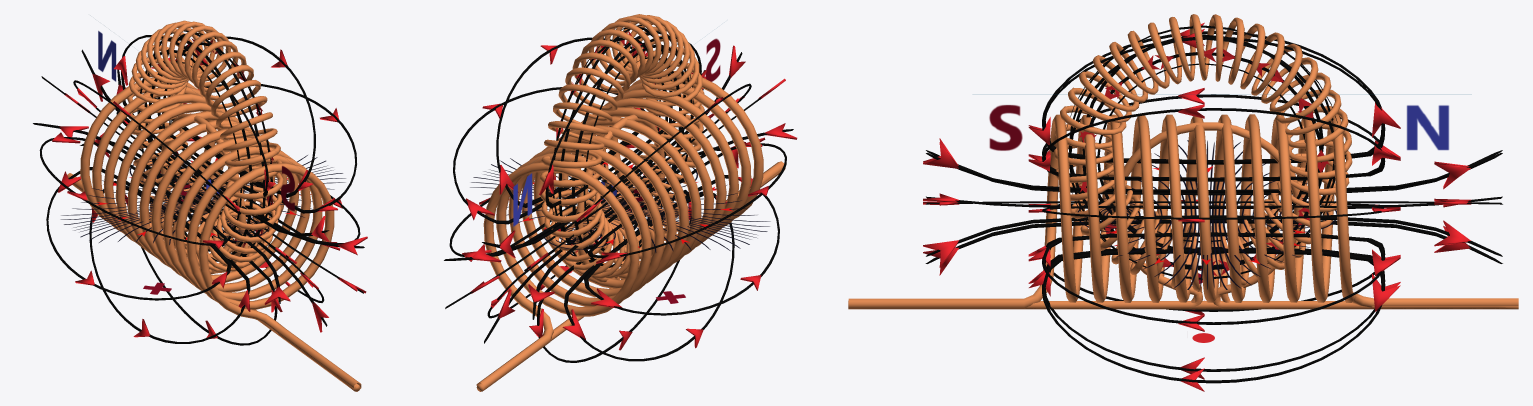
Rendered from conductors.glb.
3 views of the same model, side by side, from view 1: azimuth 30°, elevation 25°; view 2: azimuth 150°, elevation 25°; view 3: azimuth 270°, elevation 25° (orthographic). The views are drawn at different scales.
Parts seen in each view (by area): view 1: solenoid, toroid, MFsolenoid, MFcoil, MFtoroid, N-Storoid, coil, N-Ssolenoid; view 2: solenoid, toroid, MFsolenoid, MFcoil, MFtoroid, coil, N-Storoid, N-Ssolenoid; view 3: solenoid, MFsolenoid, toroid, coil, MFcoil, N-Storoid, MFtoroid, N-Ssolenoid, wire.
Boxes of the visible parts, left/top/right/bottom form: solenoid: left=67, top=77, right=361, bottom=389; toroid: left=127, top=20, right=356, bottom=385; MFsolenoid: left=33, top=35, right=367, bottom=345; MFcoil: left=60, top=155, right=345, bottom=244; MFtoroid: left=137, top=30, right=273, bottom=256; N-Storoid: left=137, top=33, right=273, bottom=261; coil: left=161, top=113, right=359, bottom=391; N-Ssolenoid: left=98, top=31, right=294, bottom=211; solenoid: left=476, top=71, right=784, bottom=390; toroid: left=540, top=14, right=704, bottom=288; MFsolenoid: left=444, top=36, right=797, bottom=362; MFcoil: left=470, top=158, right=770, bottom=252; MFtoroid: left=551, top=25, right=693, bottom=265; coil: left=476, top=114, right=785, bottom=391; N-Storoid: left=553, top=29, right=693, bottom=267; N-Ssolenoid: left=513, top=38, right=720, bottom=226; solenoid: left=848, top=114, right=1518, bottom=308; MFsolenoid: left=923, top=22, right=1502, bottom=391; toroid: left=1053, top=14, right=1352, bottom=302; coil: left=848, top=122, right=1518, bottom=309; MFcoil: left=1077, top=140, right=1336, bottom=289; N-Storoid: left=1066, top=25, right=1334, bottom=276; MFtoroid: left=1068, top=26, right=1337, bottom=279; N-Ssolenoid: left=989, top=105, right=1448, bottom=150; wire: left=848, top=301, right=1518, bottom=309.
Bounding box in the file's own units: 2.08 × 2.25 × 3.79.
3 materials, 2 textured.
